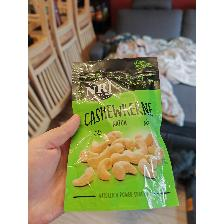Nuss: (62, 56, 180, 214)
